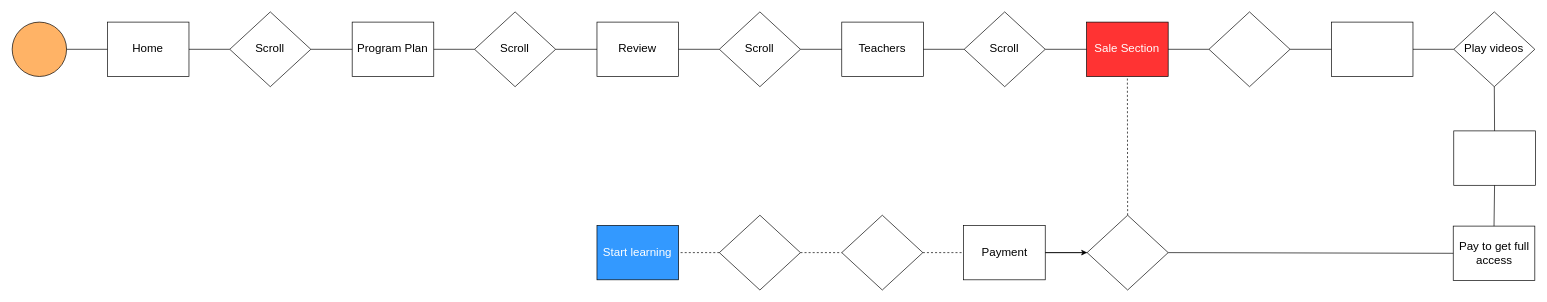
The diagram is 1547 pixels wide and 302 high, and some of its shapes have lost their labels. Each missing label, with the centre of its shape:
"Buy now" goes at pixel 1127 252.
"Finished Free content" goes at pixel 1494 157.
"Free content" goes at pixel 1372 48.
"Pay" goes at pixel 759 252.
"Put data" goes at pixel 882 252.
"Start" goes at pixel 39 48.
"Start Free" goes at pixel 1249 49.
